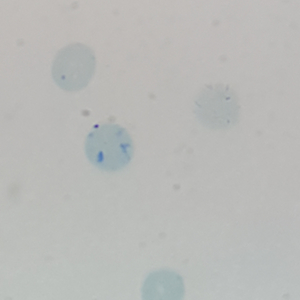aggregate reticulocyte: (82, 121, 135, 173)
punctate reticulocyte: (191, 80, 241, 133), (49, 41, 98, 93)
